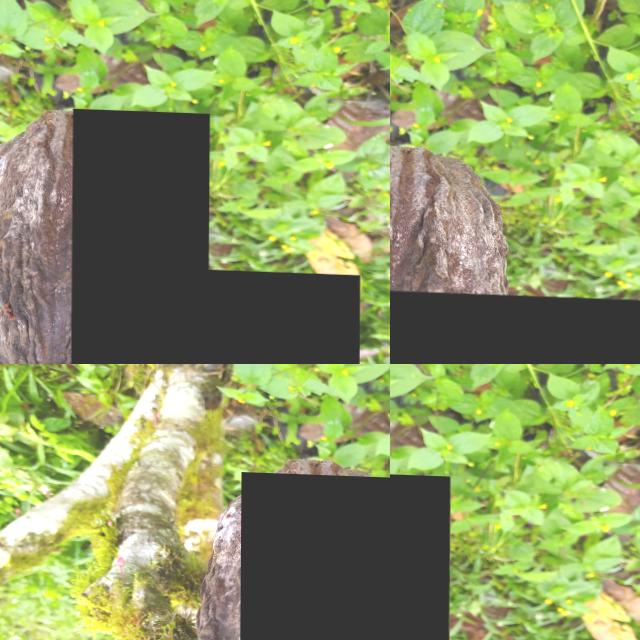Fitoftora: (71, 106, 210, 364), (240, 470, 390, 640)
Monilia: (390, 286, 640, 364)
Sana: (170, 265, 360, 364)
